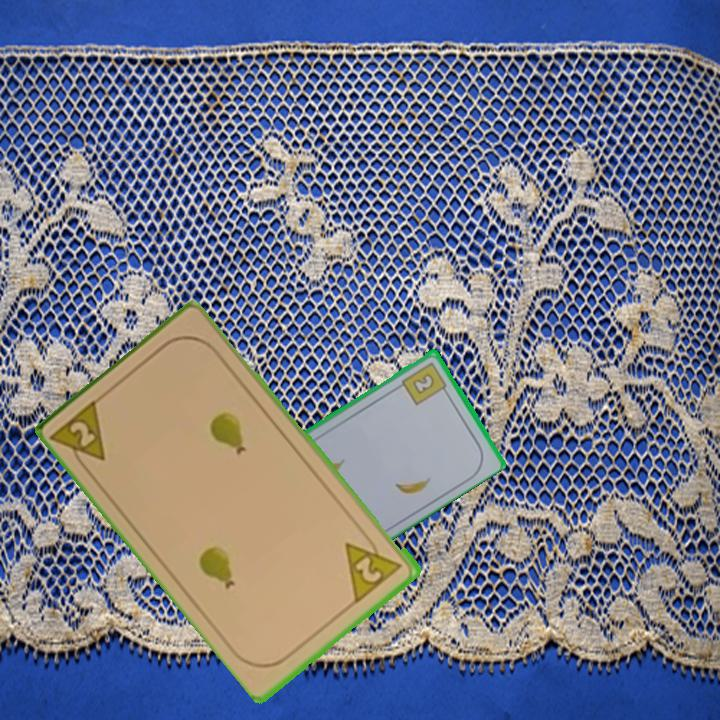2b: (398, 358, 451, 407)
2p: (341, 528, 407, 605), (49, 394, 110, 477)
